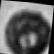correct: (0, 4, 53, 54)
